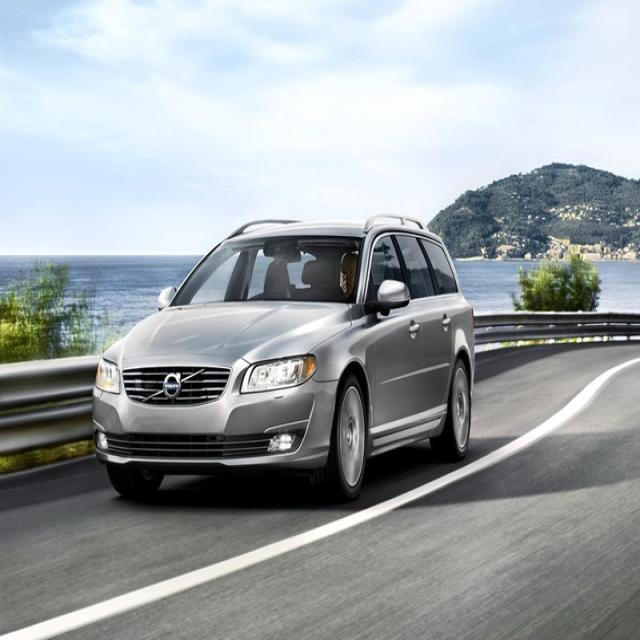front_bumper: (91, 377, 338, 472)
front_glass: (173, 236, 363, 307)
front_left_side_door: (363, 226, 426, 441)
front_left_side_light: (240, 352, 318, 394)
front_left_side_mirror: (375, 278, 411, 312)
front_right_side_light: (96, 353, 122, 395)
front_right_side_mirror: (158, 284, 176, 315)
wheel: (329, 376, 366, 498), (438, 362, 470, 458)
